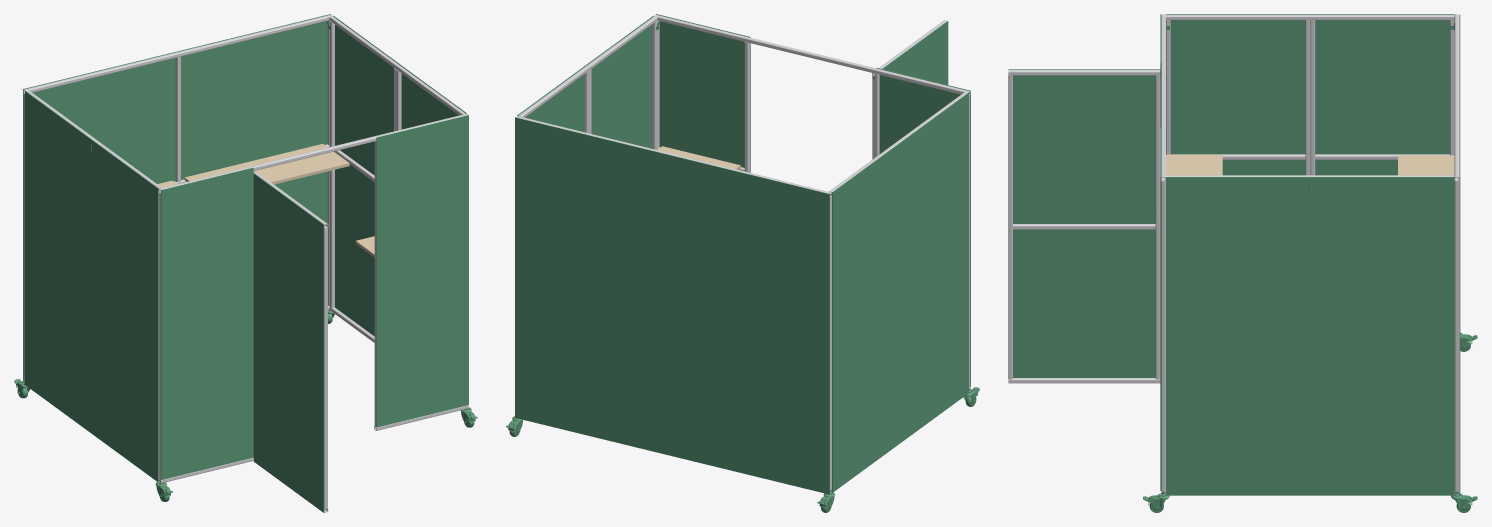
File: ISLA_SIMULACION.glb
3 renders of one model, left to right at view 1: azimuth 30°, elevation 25°; view 2: azimuth 150°, elevation 25°; view 3: azimuth 270°, elevation 25°, orthographic. The views are drawn at different scales.
Visible parts, largest first — view 1: Solid1.052, Solid1.053, Solid1.059, Solid1.050, Solid1.049, Solid1.048, Solid1.383, Solid1.009, Solid1.051, Solid1.023, Solid1.006, Solid1.054 (+6 smaller); view 2: Solid1.053, Solid1.049, Solid1.050, Solid1.052, Solid1.051, Solid1.059, Solid1.006, Solid1.048, Solid1.009, Solid1.003, Solid1.033, Solid1.013 (+1 smaller); view 3: Solid1.048, Solid1.051, Solid1.059, Solid1.050, Solid1.049, Solid1.010, Solid1.058, Solid1.005, Solid1.054, Solid1.384, Solid1.382, Solid1.016 (+14 smaller).
Boxes of the visible parts, bbox=[...] form: Solid1.052: bbox=[161, 115, 468, 479]; Solid1.053: bbox=[23, 14, 330, 382]; Solid1.059: bbox=[253, 173, 324, 512]; Solid1.050: bbox=[91, 140, 158, 482]; Solid1.049: bbox=[25, 91, 91, 433]; Solid1.048: bbox=[333, 15, 399, 336]; Solid1.383: bbox=[184, 144, 349, 184]; Solid1.009: bbox=[23, 14, 332, 94]; Solid1.051: bbox=[400, 64, 466, 129]; Solid1.023: bbox=[329, 21, 334, 307]; Solid1.006: bbox=[158, 113, 467, 193]; Solid1.054: bbox=[324, 228, 327, 508]; Solid1.053: bbox=[515, 117, 829, 494]; Solid1.049: bbox=[832, 142, 900, 492]; Solid1.050: bbox=[900, 92, 968, 442]; Solid1.052: bbox=[656, 14, 970, 386]; Solid1.051: bbox=[585, 16, 653, 148]; Solid1.059: bbox=[882, 21, 948, 84]; Solid1.006: bbox=[654, 14, 970, 95]; Solid1.048: bbox=[517, 65, 585, 131]; Solid1.009: bbox=[516, 116, 831, 197]; Solid1.003: bbox=[744, 42, 749, 172]; Solid1.033: bbox=[652, 21, 657, 149]; Solid1.013: bbox=[830, 197, 831, 489]; Solid1.048: bbox=[1310, 177, 1454, 495]; Solid1.051: bbox=[1166, 177, 1310, 495]; Solid1.059: bbox=[1008, 69, 1160, 377]; Solid1.050: bbox=[1166, 14, 1310, 175]; Solid1.049: bbox=[1310, 14, 1454, 175]; Solid1.010: bbox=[1454, 180, 1459, 490]; Solid1.058: bbox=[1155, 75, 1160, 379]; Solid1.005: bbox=[1161, 181, 1165, 490]; Solid1.054: bbox=[1008, 75, 1012, 379]; Solid1.384: bbox=[1166, 154, 1222, 175]; Solid1.382: bbox=[1398, 155, 1454, 175]; Solid1.016: bbox=[1310, 14, 1454, 20].
Size of the model in its own units: 2.04 by 1.93 by 2.44.
